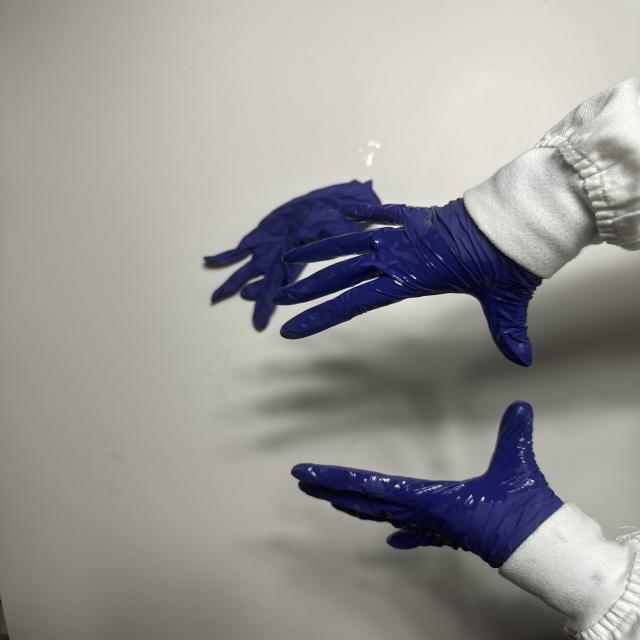gloves_contaminated: (292, 402, 562, 568), (274, 199, 541, 366)
